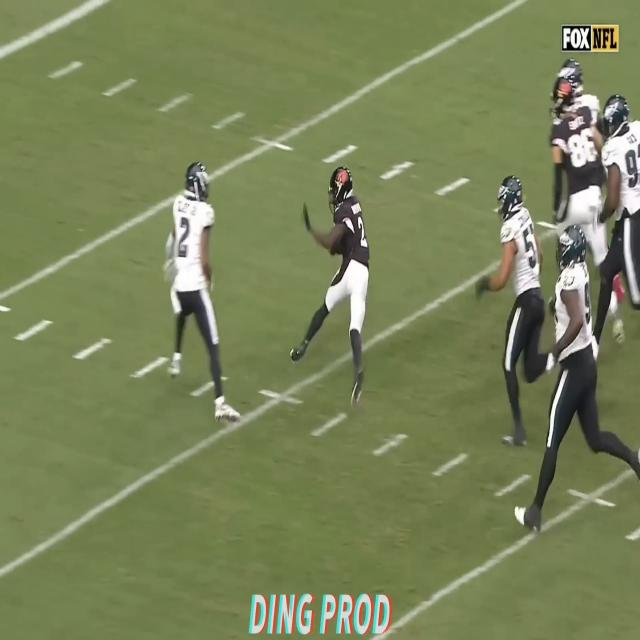players: (532, 188, 618, 574), (476, 166, 547, 466), (293, 161, 378, 403), (159, 143, 226, 440), (594, 83, 638, 376), (551, 81, 593, 282)
